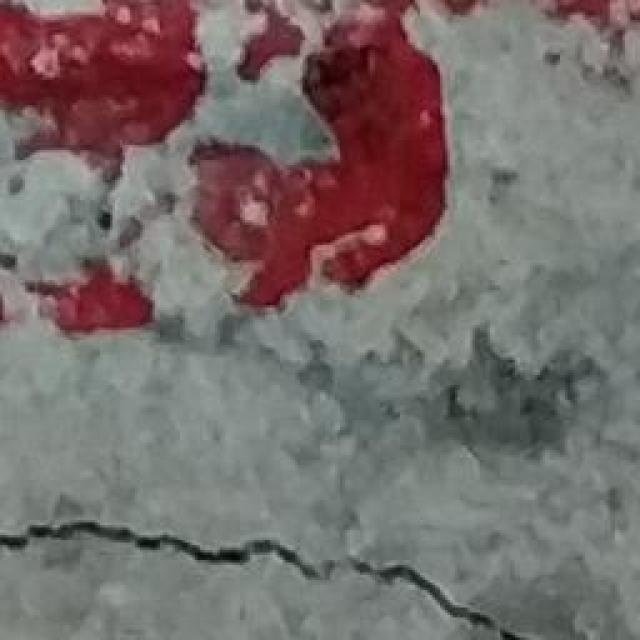Rippled: (0, 0, 640, 315)
Transverse: (0, 492, 525, 640)
